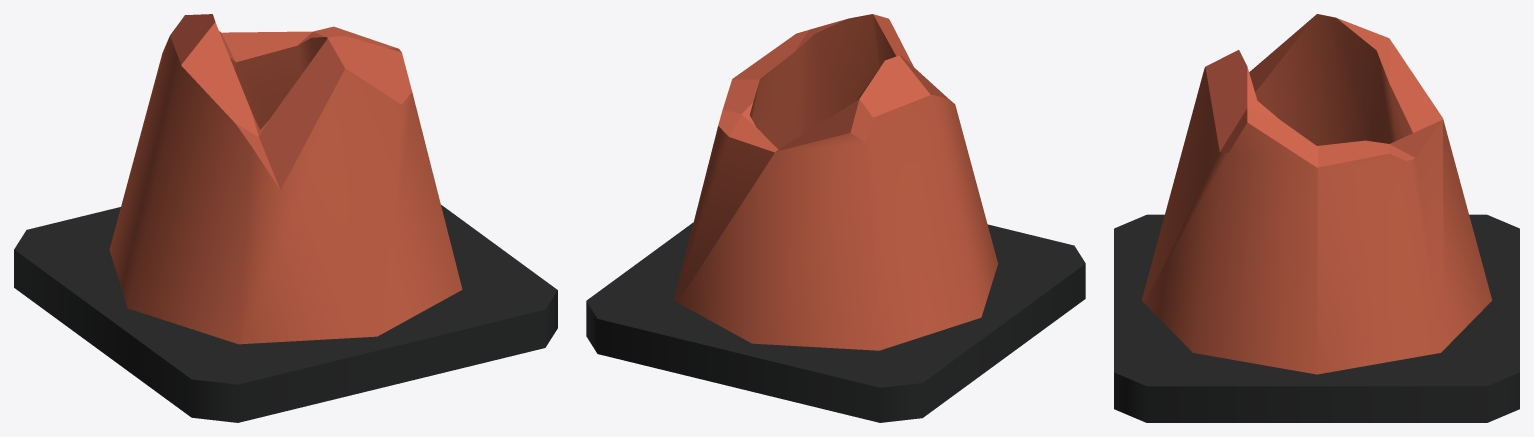
Rendered from Broken_Traffic_Cone_001.glb.
3 renders of one model, left to right at view 1: azimuth 30°, elevation 25°; view 2: azimuth 150°, elevation 25°; view 3: azimuth 270°, elevation 25°, orthographic. The views are drawn at different scales.
Parts seen in each view (by area): view 1: Broken Traffic Cone.001; view 2: Broken Traffic Cone.001; view 3: Broken Traffic Cone.001.
Part boxes in pixels (left/top/right/bottom): Broken Traffic Cone.001: left=14, top=14, right=557, bottom=422; Broken Traffic Cone.001: left=586, top=14, right=1085, bottom=422; Broken Traffic Cone.001: left=1114, top=14, right=1519, bottom=422.
Bounding box in the file's own units: 2 × 1.58 × 2.
1 material, 1 textured.
